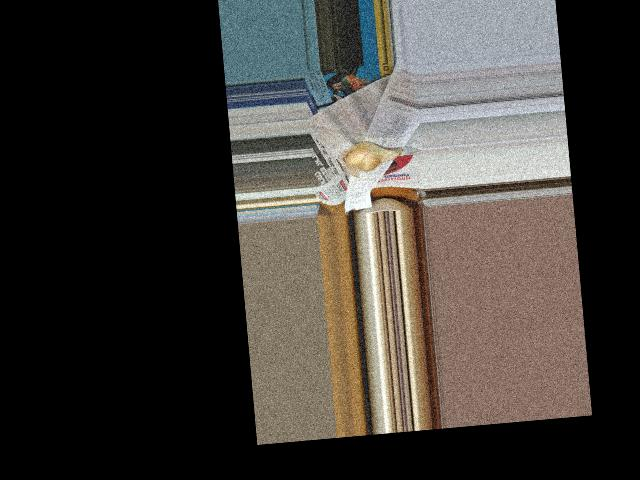onion: (342, 136, 399, 172)
